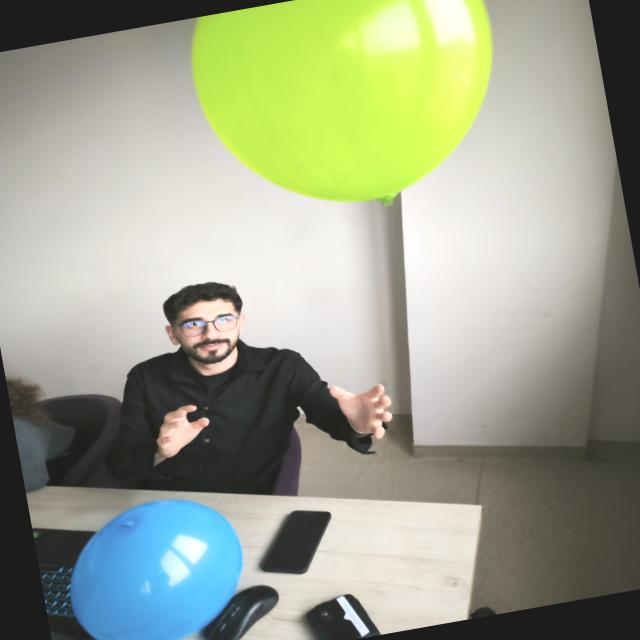balloon: (192, 0, 492, 201), (70, 499, 242, 640)
